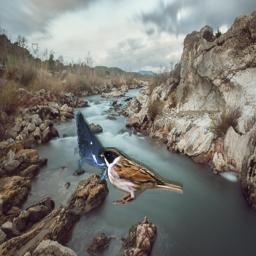Sparrow: (98, 147, 183, 204)
Woodpecker: (74, 110, 123, 186)
